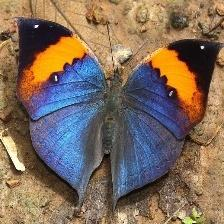butterfly: (16, 18, 224, 210)
